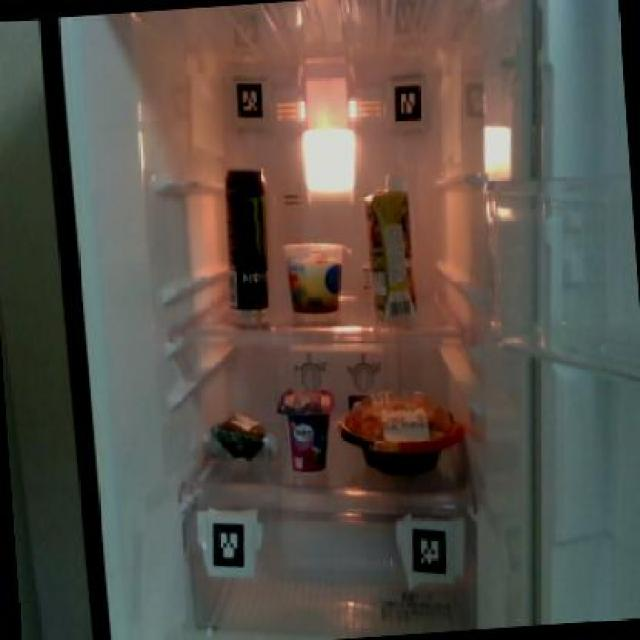bento: (334, 388, 464, 479)
energy_drink: (218, 166, 274, 312)
pudding: (282, 237, 350, 315)
rice_ball: (197, 409, 275, 468)
smoothie: (361, 169, 421, 323)
yogurt: (275, 384, 337, 474)
